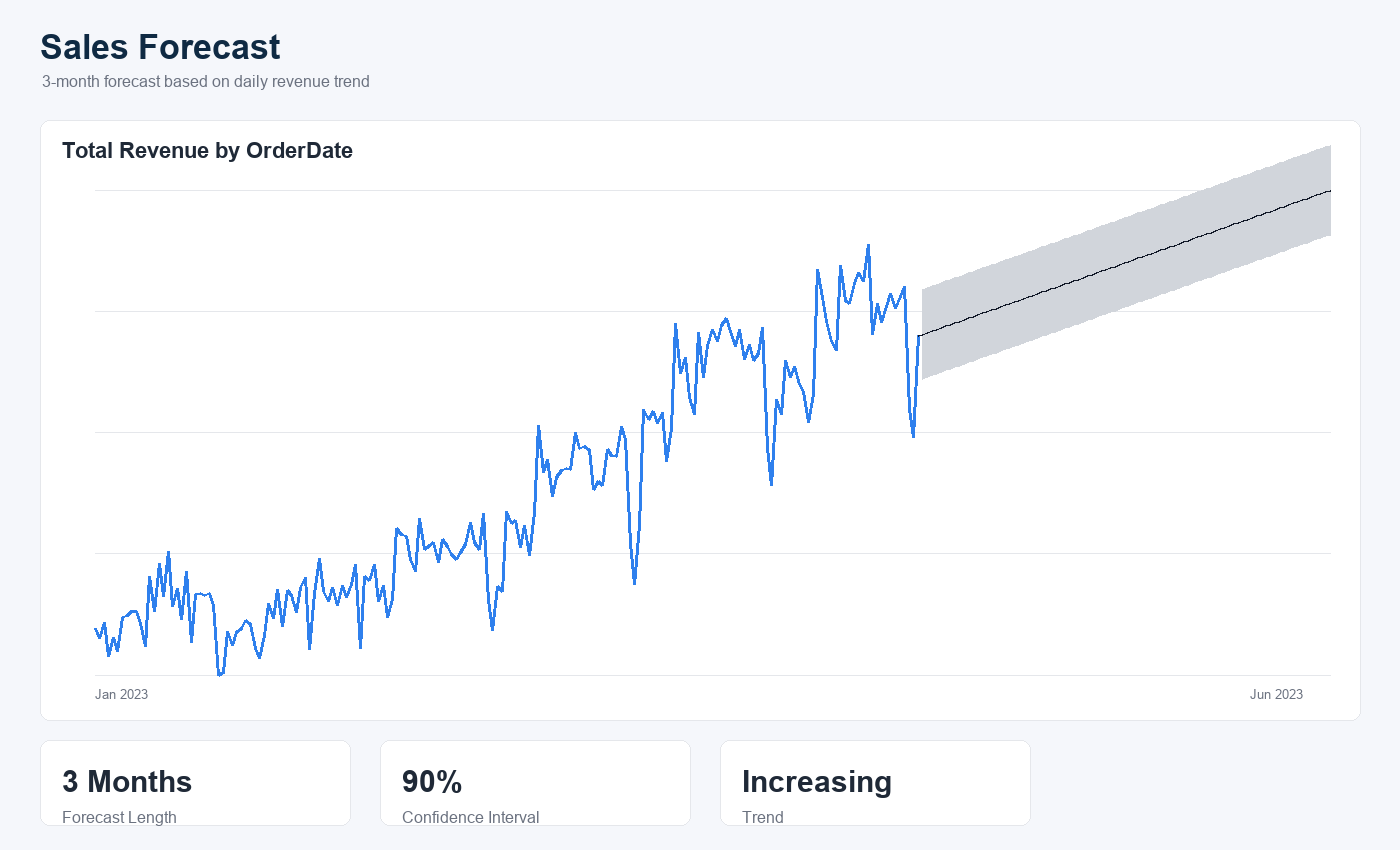

This screenshot's page, from the dashboard's own definition file:
{"tool":"powerbi","page":{"name":"Sales Forecast","canvas":[1280,720],"ordinal":3},"visuals":[{"type":"lineChart","title":"Sales Forecast","fields":{"Y":["Sales.Total Revenue"],"Category":["Sales.OrderDate"]},"box":[10,0,1270,280],"z":0}]}

Visuals, with their boxes on the page's 1280x720 design canvas (x1, y1, x2, y2). These are canvas units, not pixel positions in the 1400x850 screenshot, which may show the page scaled, cropped or inside an application window:
"Sales Forecast" lineChart: bbox=(10, 0, 1280, 280)
